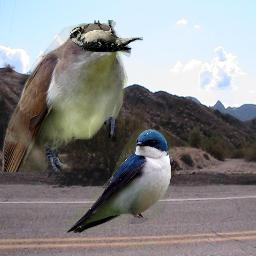Cuckoo: (2, 23, 131, 172)
Swallow: (66, 129, 175, 234)
Woodpecker: (70, 20, 143, 52)
